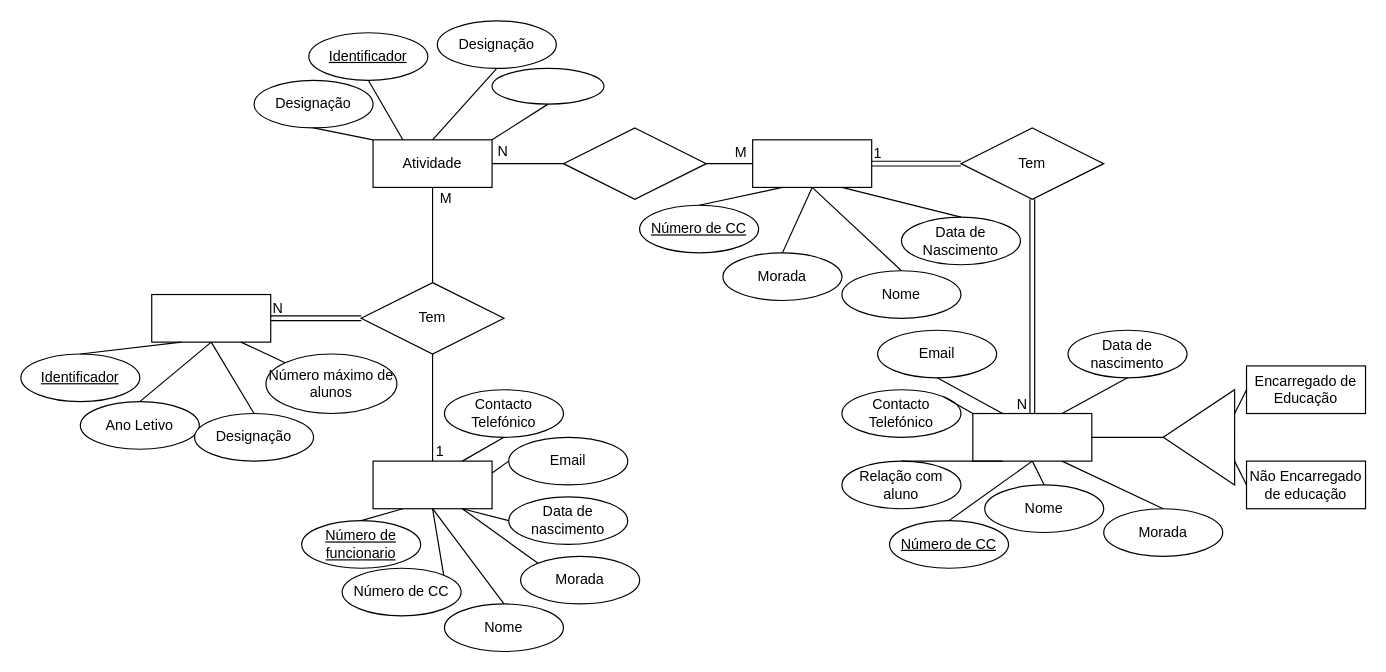
Some shapes in this 1386 by 672 pixel diagram are drawn without their labels. The centre of each missing label's shape, as x and y in pixels:
"Aluno" belongs at point (811, 163).
"Custo" belongs at point (547, 85).
"IS-A" belongs at point (1198, 437).
"Pessoa Com Autorização" belongs at point (1032, 436).
"Professor" belongs at point (432, 484).
"Tem Participante" belongs at point (634, 163).
"Turma" belongs at point (211, 317).
